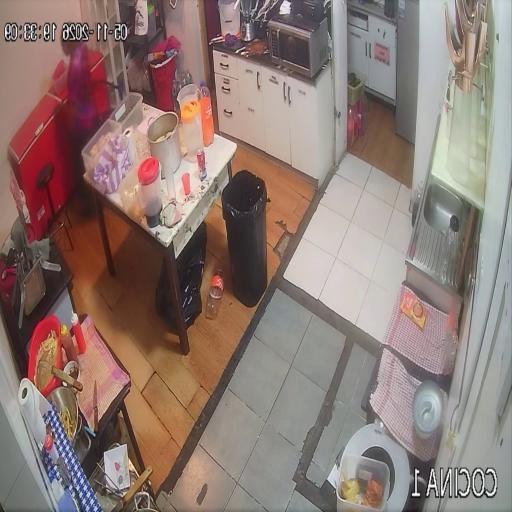Basurero: (222, 170, 267, 307)
Cuchillo1: (93, 380, 98, 432)
Envase Ketchup: (71, 312, 86, 354)
Envase Llajua: (61, 325, 77, 362)
Jarra1: (138, 157, 162, 228)
Jarra2: (181, 99, 204, 161)
Jarra3: (178, 83, 198, 106)
JarraLicuadora: (442, 215, 459, 282)
Microondas: (268, 15, 328, 77)
Persona1: (61, 30, 101, 216)
Tapa de olla: (413, 381, 444, 439)
Taper: (336, 453, 390, 512)
Taper2: (110, 92, 143, 131)
Taper3: (82, 119, 123, 177)
Vaso1: (182, 173, 190, 196)
olla1: (147, 112, 182, 200)
